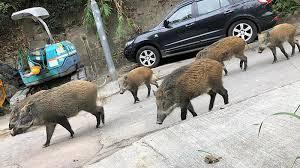Hog: (9, 78, 110, 149), (153, 58, 230, 126), (195, 35, 248, 74), (255, 23, 300, 64), (117, 66, 160, 103)
